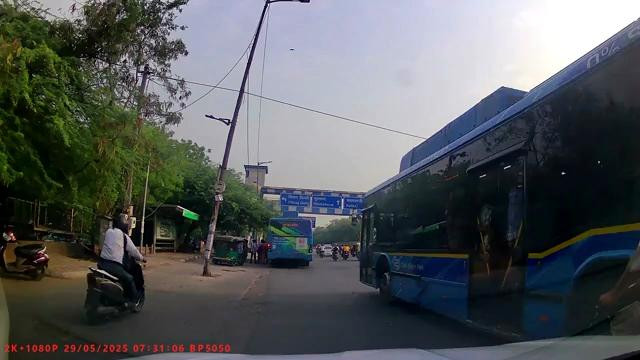motorcycle_with_helmet: (82, 211, 148, 325)
